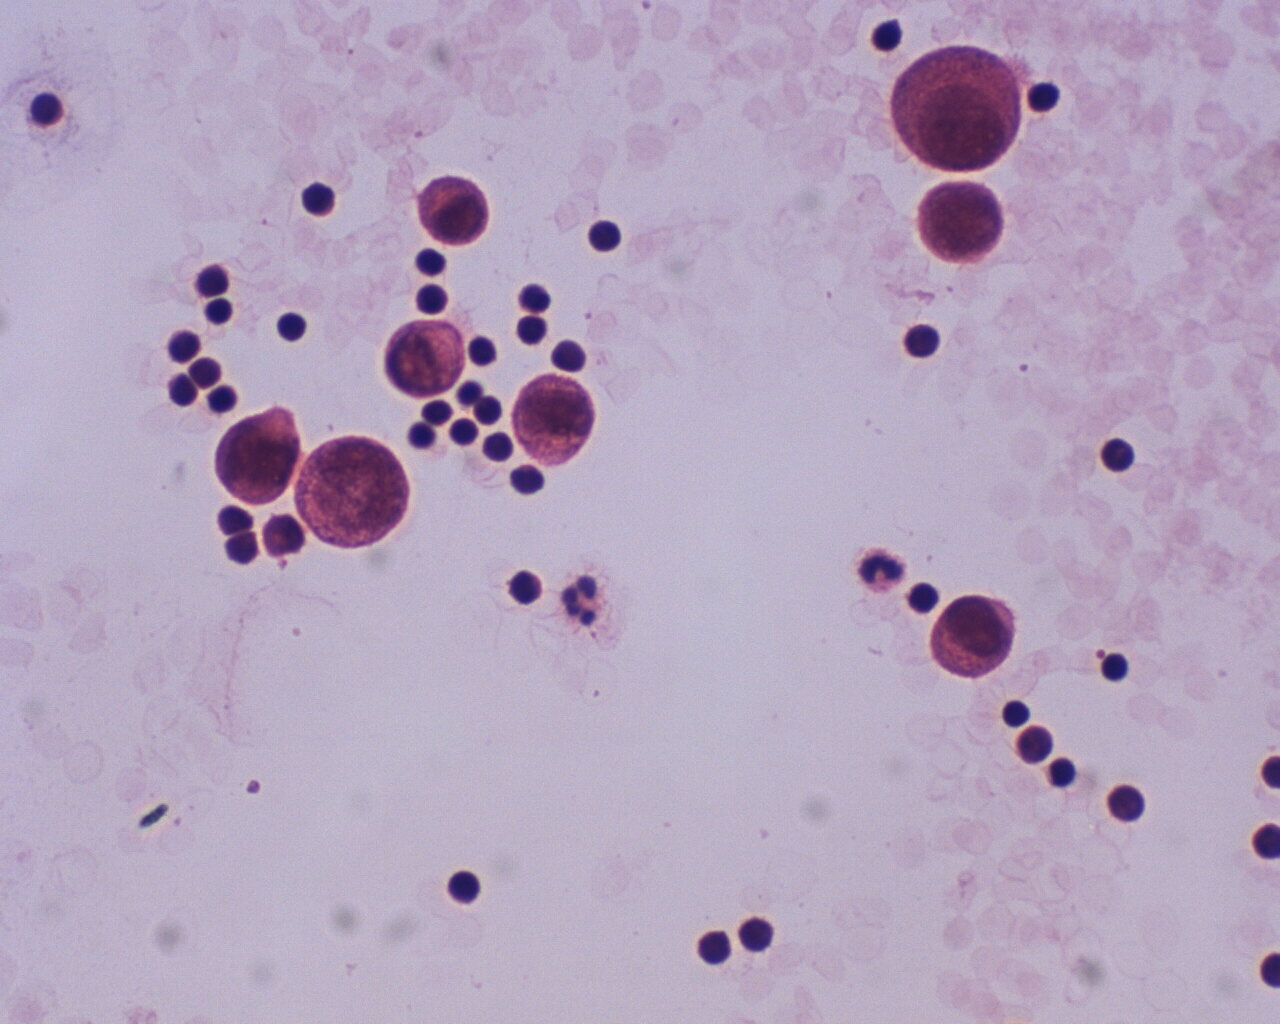ab: (889, 43, 1029, 176), (300, 429, 416, 556), (913, 169, 1009, 275), (213, 408, 307, 509), (506, 369, 598, 467), (927, 592, 1022, 682), (378, 318, 471, 399), (413, 168, 494, 246)
lymph: (897, 315, 956, 370), (1100, 779, 1162, 829), (502, 562, 551, 610), (1021, 73, 1072, 119), (164, 319, 210, 369), (736, 909, 778, 959), (439, 866, 486, 911), (1100, 430, 1144, 478), (273, 305, 315, 354), (24, 85, 68, 131), (583, 216, 629, 258), (298, 181, 343, 222), (999, 692, 1037, 734), (479, 428, 520, 466), (446, 410, 483, 451), (1046, 750, 1084, 790), (197, 295, 237, 329), (466, 329, 499, 370), (412, 281, 449, 317), (513, 315, 549, 348), (1099, 647, 1131, 681)
neutro: (557, 571, 611, 629), (853, 549, 910, 596)
